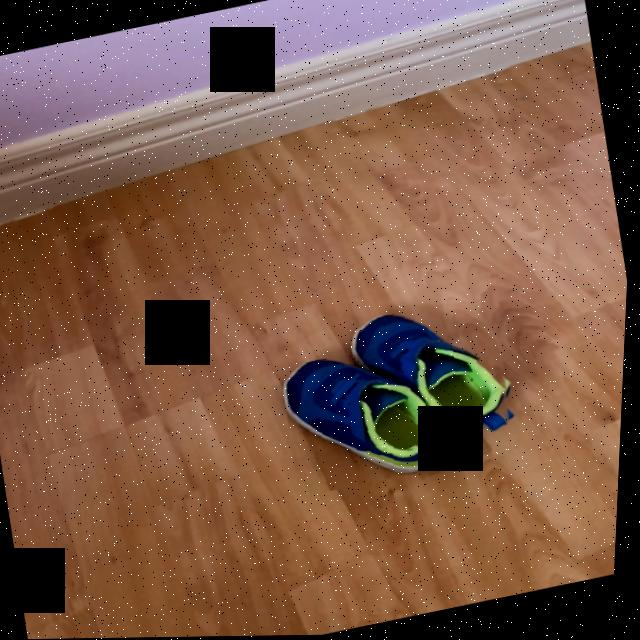shoe: (287, 347, 510, 476), (355, 318, 512, 452)
